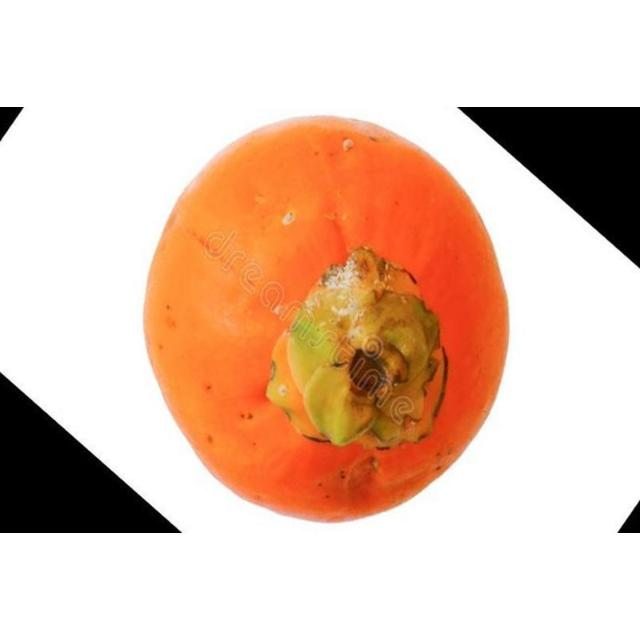good: (137, 116, 511, 525)
